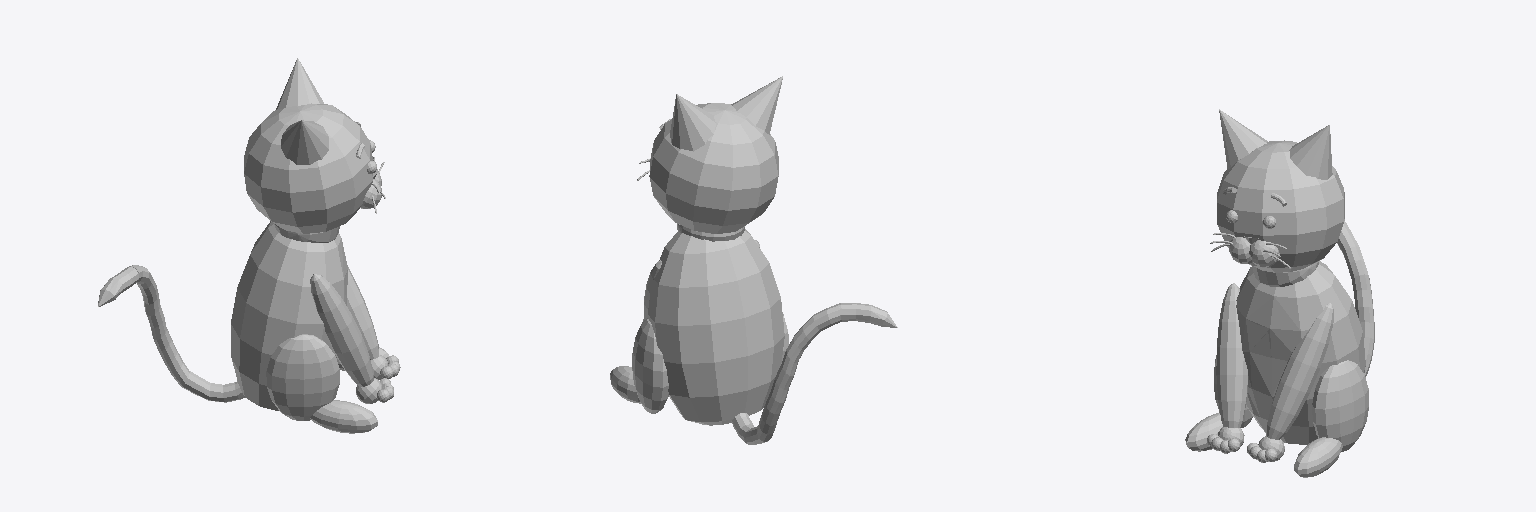
The model's file is Mesh_Cat.obj.
The picture shows the model from 3 angles: view 1: azimuth 30°, elevation 25°; view 2: azimuth 150°, elevation 25°; view 3: azimuth 270°, elevation 25°; orthographic projection.
Parts seen in each view (by area): view 1: group[number redacted]; view 2: group[number redacted]; view 3: group[number redacted].
Boxes of the visible parts, x1,y1,x2,y2 form: group[number redacted]: [98, 58, 400, 433]; group[number redacted]: [610, 76, 897, 444]; group[number redacted]: [1185, 109, 1374, 477].
Bounding box in the file's own units: 0.7225 × 0.7852 × 0.4107.